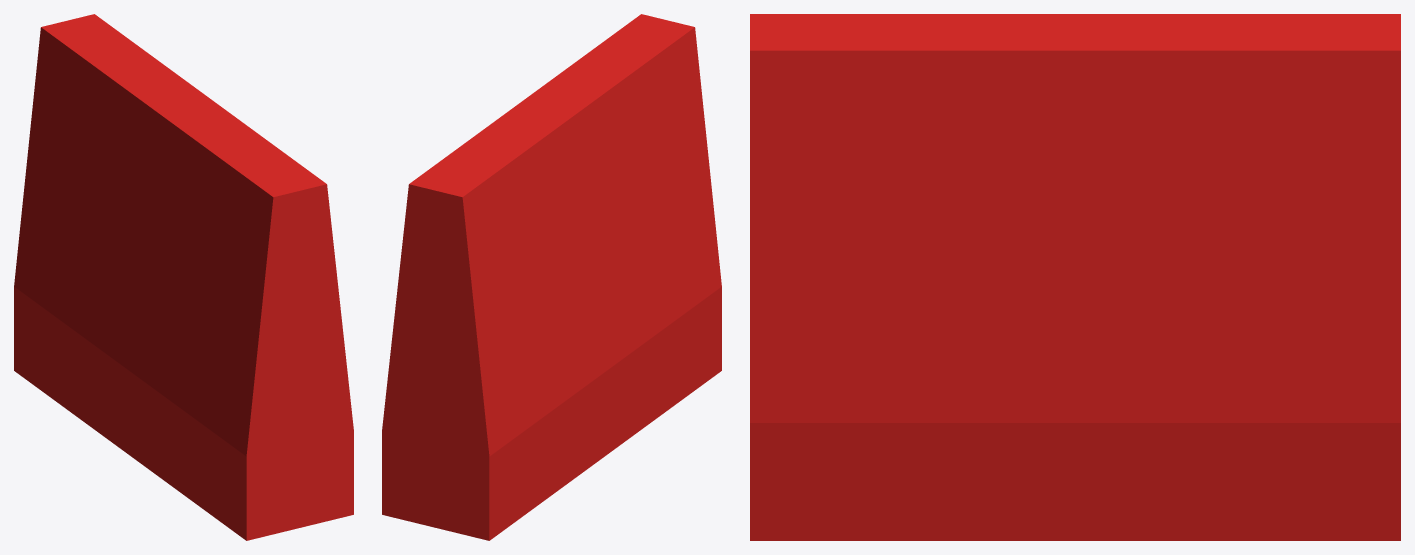
Rendered from barrier3.fbx.
The picture shows the model from 3 angles, left to right: view 1: azimuth 30°, elevation 25°; view 2: azimuth 150°, elevation 25°; view 3: azimuth 270°, elevation 25°; orthographic projection. The views are drawn at different scales.
Parts seen in each view (by area): view 1: Track_Fence_line_type_01_white_block_1&5m_free; view 2: Track_Fence_line_type_01_white_block_1&5m_free; view 3: Track_Fence_line_type_01_white_block_1&5m_free.
Boxes of the visible parts, x1,y1,x2,y2 form: Track_Fence_line_type_01_white_block_1&5m_free: [14, 14, 353, 540]; Track_Fence_line_type_01_white_block_1&5m_free: [382, 14, 721, 540]; Track_Fence_line_type_01_white_block_1&5m_free: [750, 14, 1400, 540].
Size of the model in its own units: 40 by 120 by 150.
